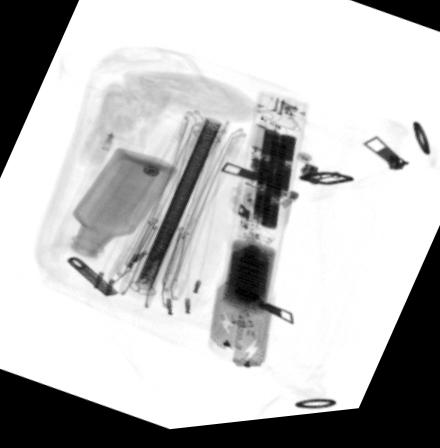Baton: (205, 95, 312, 373)
